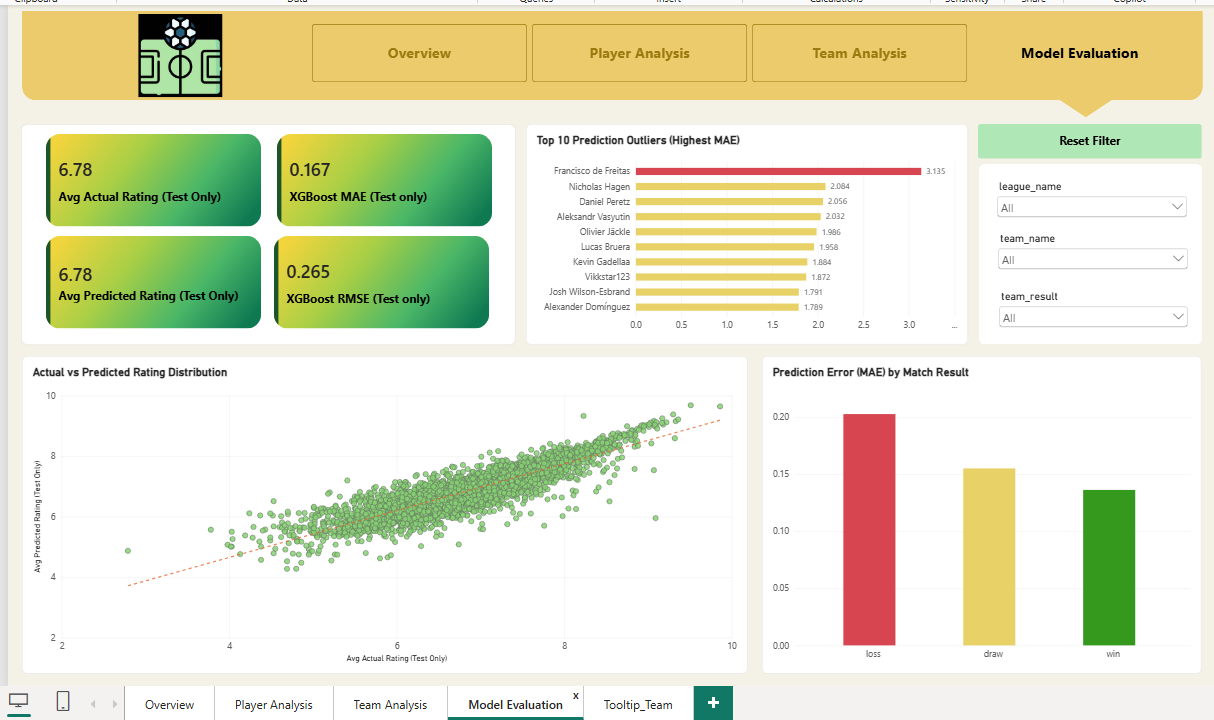

The dashboard page shown, as its layout file describes it:
{"tool":"powerbi","page":{"name":"Model Evaluation","canvas":[1920,1080],"ordinal":3},"visuals":[{"type":"shape","box":[1657.6,110.6,100.9,67.6],"z":0,"group":"g1"},{"type":"shape","box":[1539.1,251.6,353.8,286.2],"z":0,"group":"g3"},{"type":"scatterChart","title":"Actual vs Predicted Rating Distribution","fields":{"Category":["football_players_data.player_name"],"X":["Measures Table.Avg Actual Rating (Test Only)"],"Y":["Measures Table.Avg Predicted Rating"]},"box":[21.5,556.1,1150.7,503.9],"z":0},{"type":"shape","box":[21.5,9.2,1872.7,141.5],"z":1000,"group":"g1"},{"type":"slicer","fields":{"Values":["football_players_data.league_name"]},"box":[1562.2,277.8,310.8,67.7],"z":1000,"group":"g3"},{"type":"clusteredColumnChart","title":"Prediction Error (MAE) by Match Result","fields":{"Category":["football_players_data.team_result"],"Y":["Measures Table.Model MAE"]},"box":[1195.2,556.1,697.5,503.9],"z":1000},{"type":"image","box":[134.8,13.8,277.2,132.3],"z":2000,"group":"g1"},{"type":"clusteredBarChart","title":"Top 10 Prediction Outliers (Highest MAE)","fields":{"Category":["football_players_data.player_name"],"Y":["Measures Table.Model MAE"]},"box":[821.9,189,700.5,350.3],"z":2000},{"type":"slicer","fields":{"Values":["football_players_data.team_result"]},"box":[1566.1,452.2,309.2,76.5],"z":2000,"group":"g3"},{"type":"group","id":"g1","title":"Group 4","box":[21.5,9.2,1872.7,169],"z":3000},{"type":"pageNavigator","box":[481.8,29.2,1388.4,92.2],"z":3000,"group":"g1"},{"type":"shape","box":[21.2,189,784.6,350.8],"z":4000},{"type":"cardVisual","fields":{"Data":["Measures Table.Model MAE"]},"box":[427.1,204.3,341.5,147],"z":4000,"group":"g2"},{"type":"cardVisual","fields":{"Data":["Measures Table.Avg Actual Rating (Test)"]},"box":[59.9,204.3,341.5,147.7],"z":5000},{"type":"group","id":"g2","title":"Group 2","box":[427.1,204.3,341.1,147.5],"z":6000},{"type":"slicer","fields":{"Values":["football_players_data.team_name"]},"box":[1564.7,359.9,310.8,73.7],"z":6000,"group":"g3"},{"type":"cardVisual","fields":{"Data":["Measures Table.Model RMSE"]},"box":[422.5,365.6,341.5,147.7],"z":7000},{"type":"cardVisual","fields":{"Data":["Measures Table.Avg Predicted Rating"]},"box":[59.9,365.6,341.5,147.7],"z":8000},{"type":"group","id":"g3","title":"Group 3","box":[1539.1,251.6,353.8,286.2],"z":9000},{"type":"actionButton","box":[1538.8,188.8,355,55],"z":10000}]}

Visuals, with their boxes on the page's 1920x1080 design canvas (x1, y1, x2, y2). These are canvas units, not pixel positions in the 1214x720 screenshot, which may show the page scaled, cropped or inside an application window:
shape: bbox=(1658, 111, 1758, 178)
shape: bbox=(1539, 252, 1893, 538)
"Actual vs Predicted Rating Distribution" scatterChart: bbox=(22, 556, 1172, 1060)
shape: bbox=(22, 9, 1894, 151)
slicer - football_players_data.league_name: bbox=(1562, 278, 1873, 346)
"Prediction Error (MAE) by Match Result" clusteredColumnChart: bbox=(1195, 556, 1893, 1060)
image: bbox=(135, 14, 412, 146)
"Top 10 Prediction Outliers (Highest MAE)" clusteredBarChart: bbox=(822, 189, 1522, 539)
slicer - football_players_data.team_result: bbox=(1566, 452, 1875, 529)
"Group 4" group: bbox=(22, 9, 1894, 178)
pageNavigator: bbox=(482, 29, 1870, 121)
shape: bbox=(21, 189, 806, 540)
cardVisual - Measures Table.Model MAE: bbox=(427, 204, 769, 351)
cardVisual - Measures Table.Avg Actual Rating (Test): bbox=(60, 204, 401, 352)
"Group 2" group: bbox=(427, 204, 768, 352)
slicer - football_players_data.team_name: bbox=(1565, 360, 1876, 434)
cardVisual - Measures Table.Model RMSE: bbox=(422, 366, 764, 513)
cardVisual - Measures Table.Avg Predicted Rating: bbox=(60, 366, 401, 513)
"Group 3" group: bbox=(1539, 252, 1893, 538)
actionButton: bbox=(1539, 189, 1894, 244)
